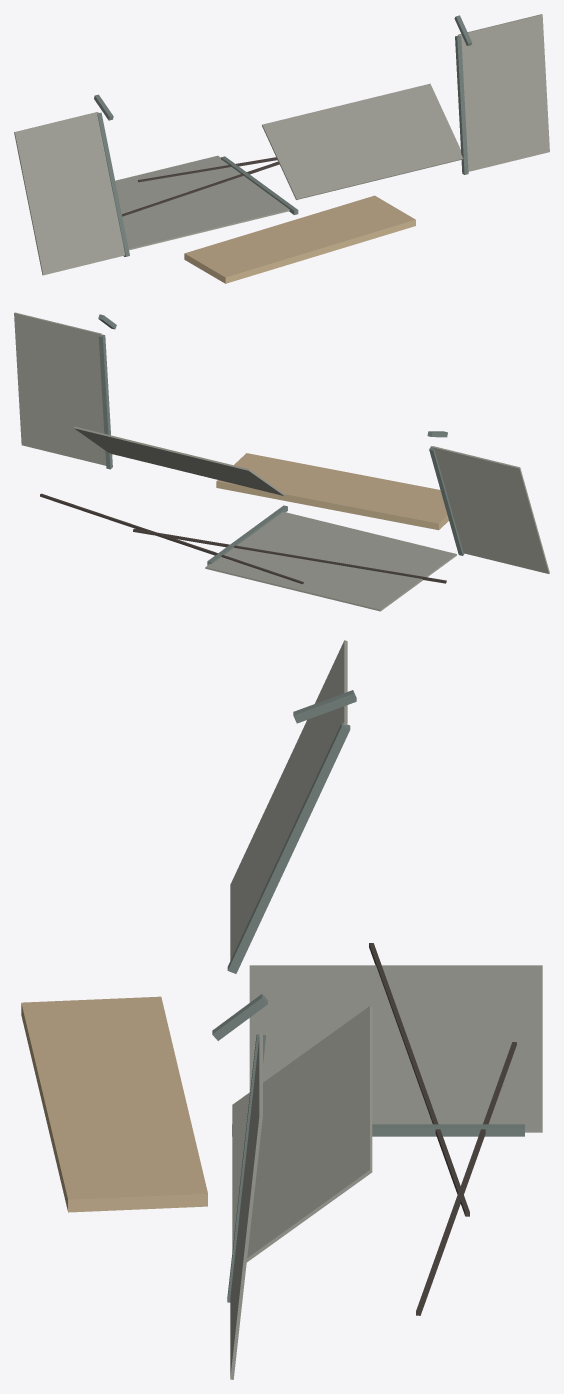
Rendered from SM_VallaBetera_Malla_e3_MuyDanada_LOD0.fbx.
3 renders of one model, top to bottom at view 1: azimuth 30°, elevation 25°; view 2: azimuth 150°, elevation 25°; view 3: azimuth 270°, elevation 25°, orthographic. The views are drawn at different scales.
Visible parts, largest first — view 1: SM_valla_estados_v3_LOD0; view 2: SM_valla_estados_v3_LOD0; view 3: SM_valla_estados_v3_LOD0.
Boxes of the visible parts, bbox=[...] form: SM_valla_estados_v3_LOD0: bbox=[14, 14, 549, 283]; SM_valla_estados_v3_LOD0: bbox=[14, 312, 549, 611]; SM_valla_estados_v3_LOD0: bbox=[21, 640, 542, 1379].
Size of the model in its own units: 9.98 by 2.89 by 4.45.
